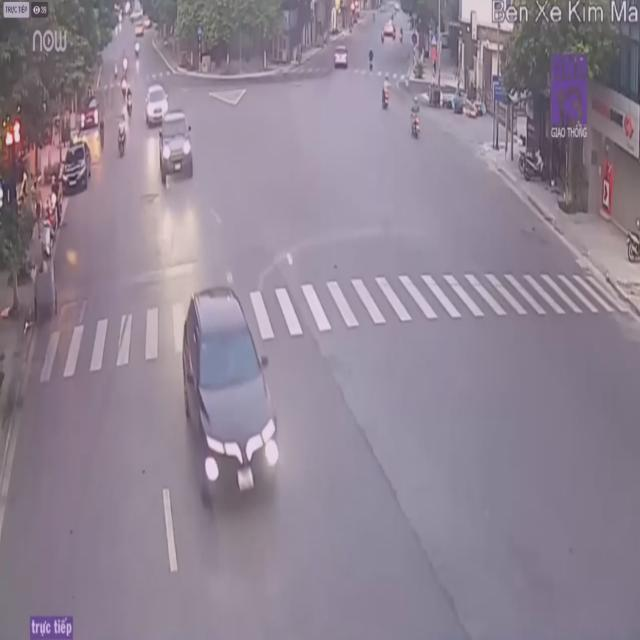car: (180, 288, 274, 509), (156, 107, 195, 188), (62, 139, 92, 197)
motorbike: (380, 73, 393, 113), (410, 98, 422, 140)
